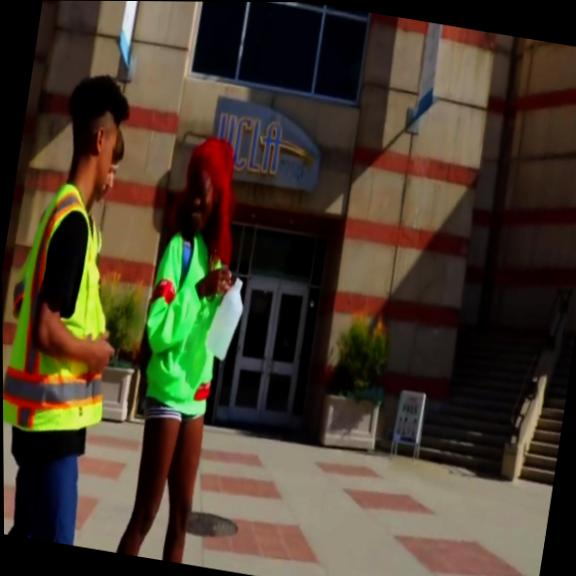safety_vest: (1, 175, 136, 445)
